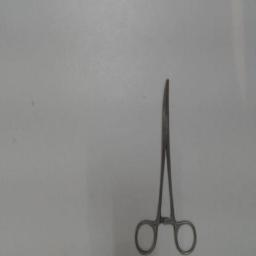Crile Artery Forceps: (130, 72, 198, 256)
